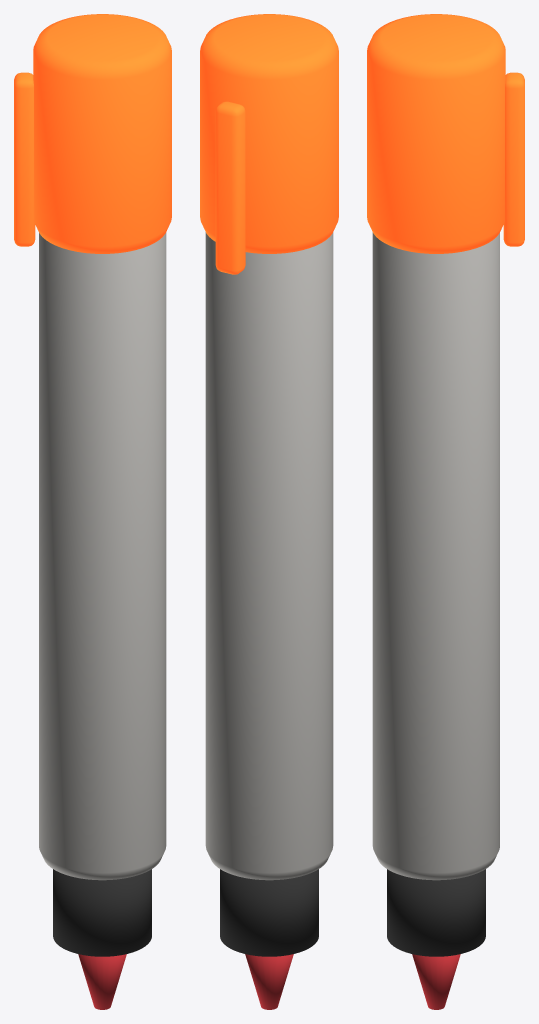
The picture shows the model from 3 angles, left to right: view 1: azimuth 90°, elevation 25°; view 2: azimuth 150°, elevation 25°; view 3: azimuth 270°, elevation 25°; orthographic projection.
Visible parts, largest first — view 1: body, cap, collar, clip, felt; view 2: body, cap, collar, clip, felt; view 3: body, cap, collar, clip, felt.
Boxes of the visible parts, x1,y1,x2,y2 form: body: (39,232,166,880); cap: (33,14,171,253); collar: (53,869,151,956); clip: (14,72,35,246); felt: (78,954,126,1009); body: (205,232,333,880); cap: (200,14,338,253); collar: (220,869,318,956); clip: (215,101,245,274); felt: (245,954,293,1009); body: (372,232,499,880); cap: (367,14,505,253); collar: (387,869,485,956); clip: (503,72,524,246); felt: (412,954,460,1009).
Size of the model in its own units: 0.196 by 1.51 by 0.223.
